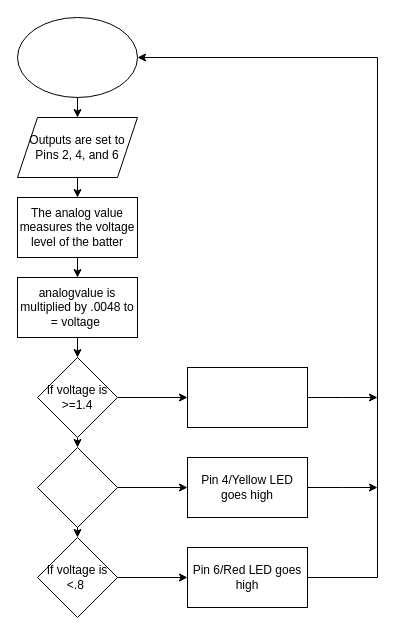
Image size: 403x635. Some labels were removed from this diagram. The centre of each missing label's shape, as x and y in pixels:
"If voltage is <1.4 and >.8" goes at (x=77, y=487).
"Pin 2/Green LED goes high" goes at (x=247, y=397).
"Start" goes at (x=77, y=57).
